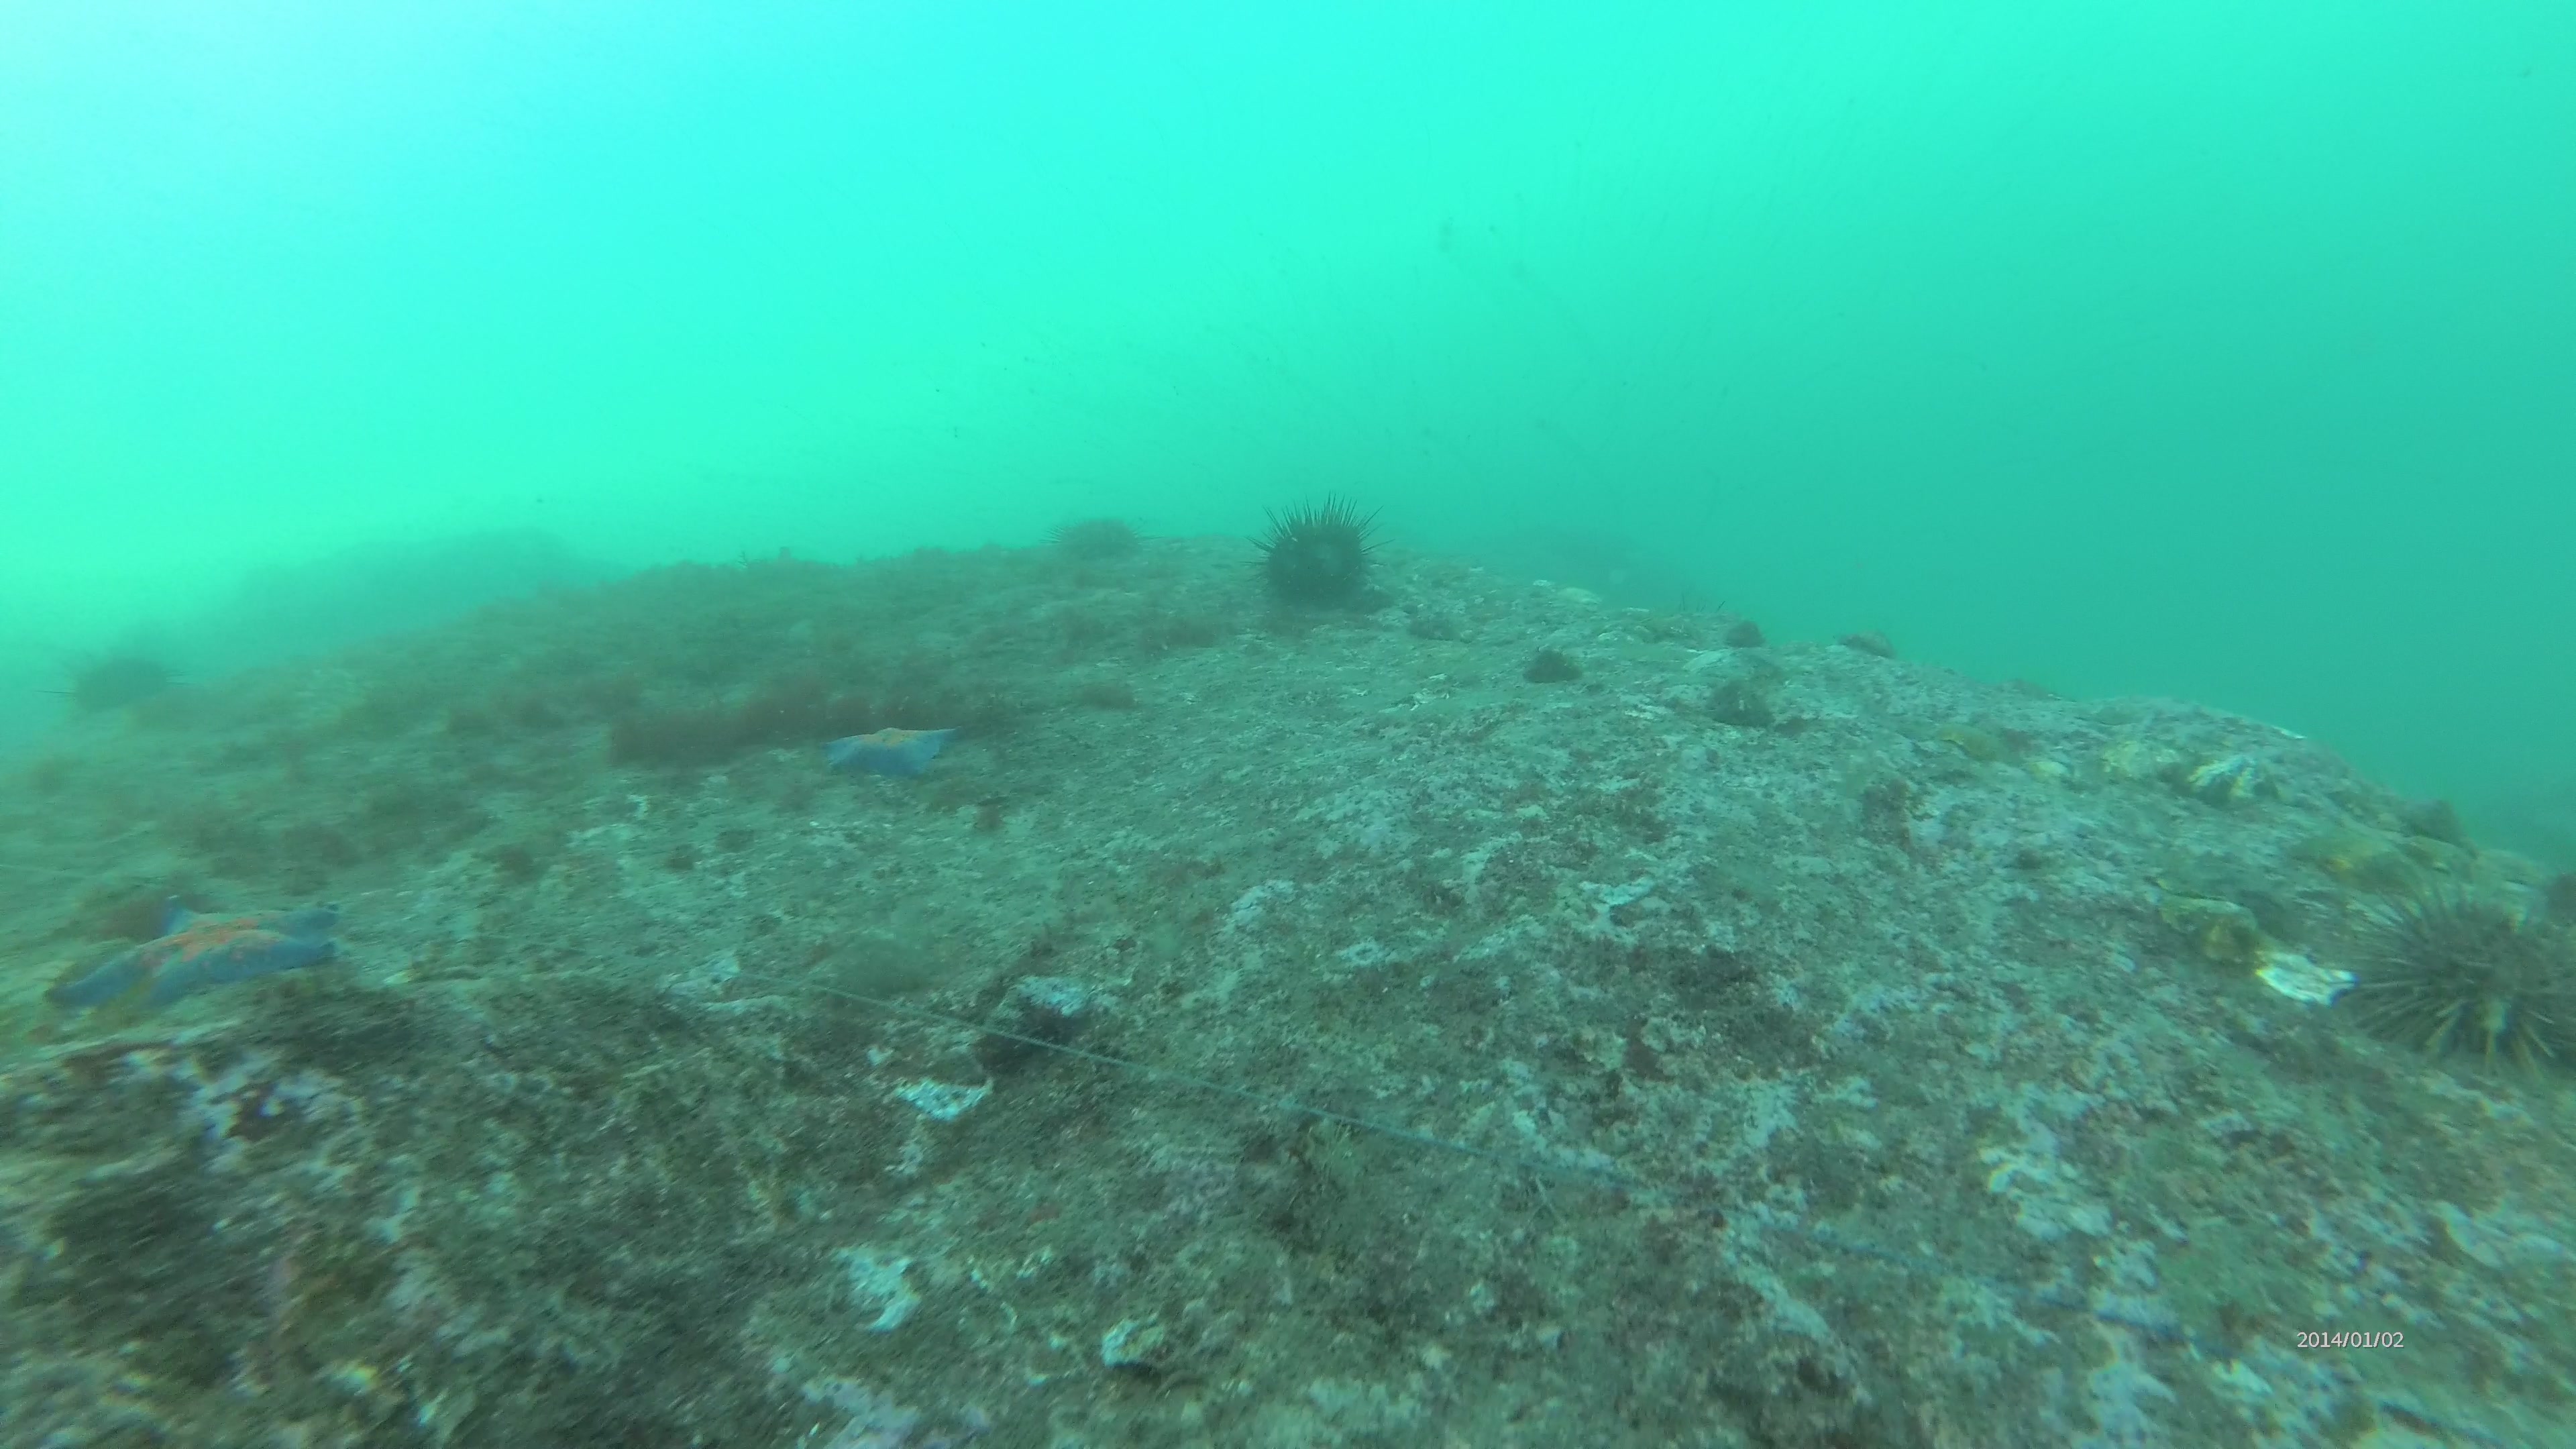echinus: (2374, 888, 2576, 1079), (1254, 495, 1380, 617), (65, 655, 177, 720), (1054, 513, 1139, 571)
starfish: (58, 902, 341, 1007), (824, 725, 959, 782)
